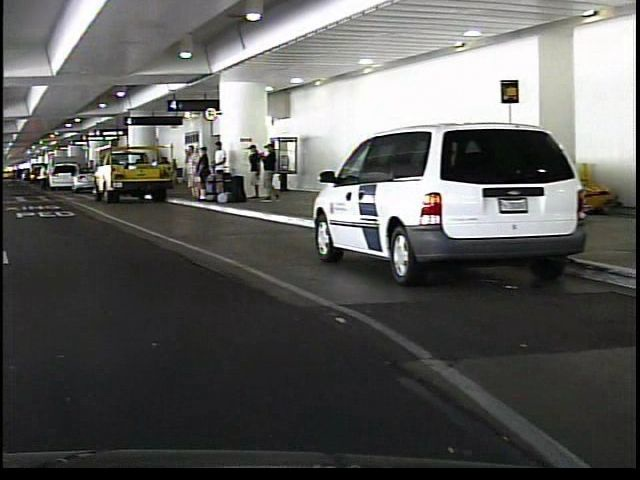person: (179, 141, 197, 202), (259, 142, 276, 205), (35, 162, 47, 193)
